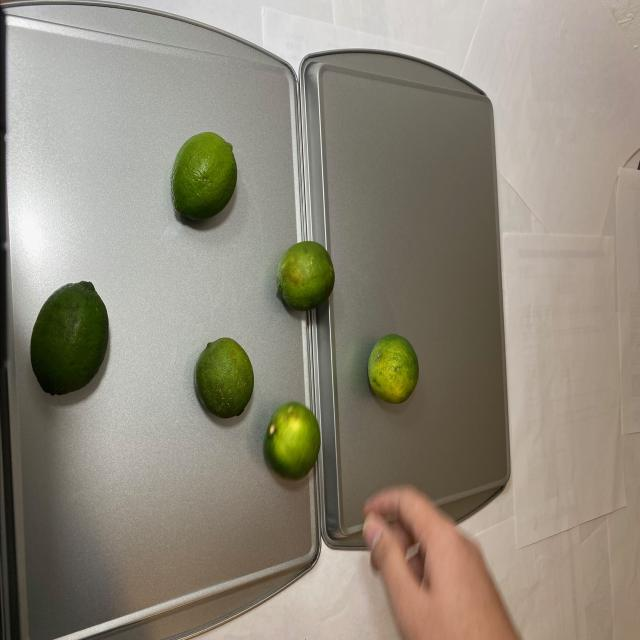lemon: (32, 128, 341, 496), (366, 329, 425, 418)
